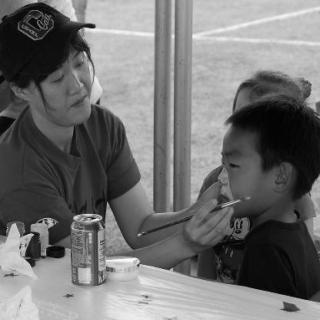alumunium_can: (72, 215, 106, 288)
